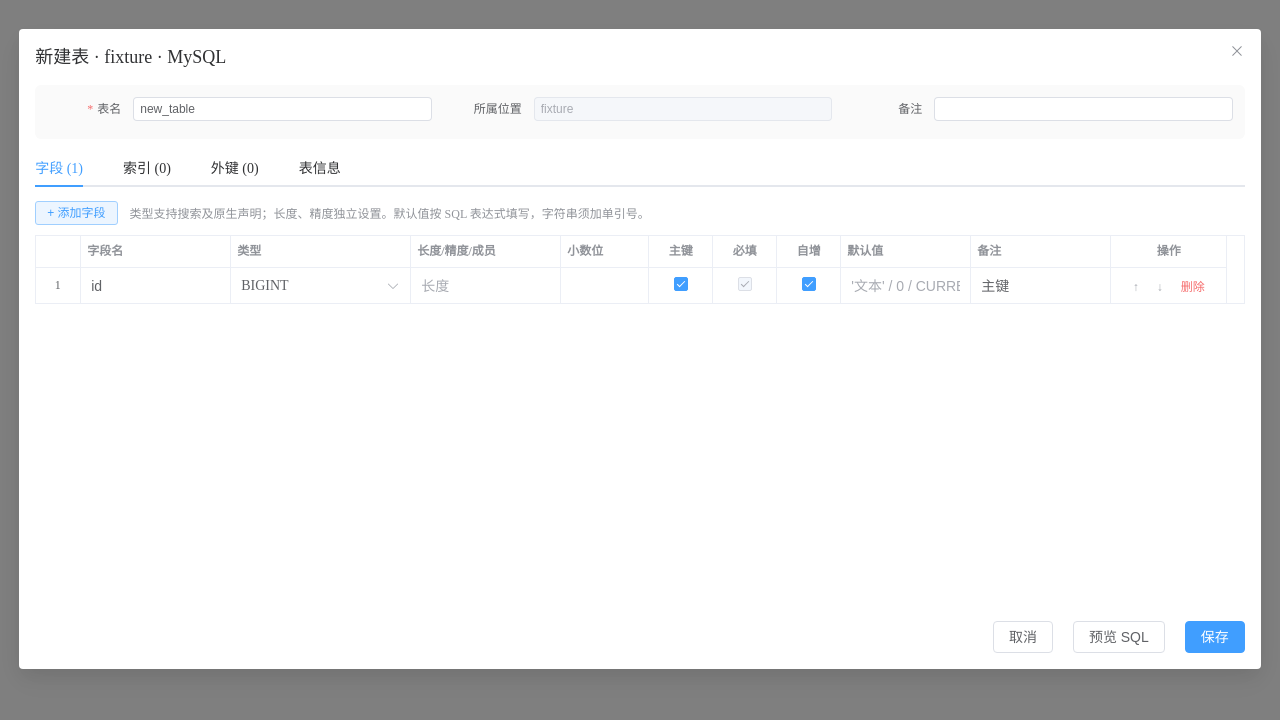
Test case: 建表弹窗交互 › 无效字段名显示持久错误，阻止保存，并将键盘焦点移到错误摘要
Clear the field named "字段名 id". click: (156, 286)
box: [91,271,220,301]
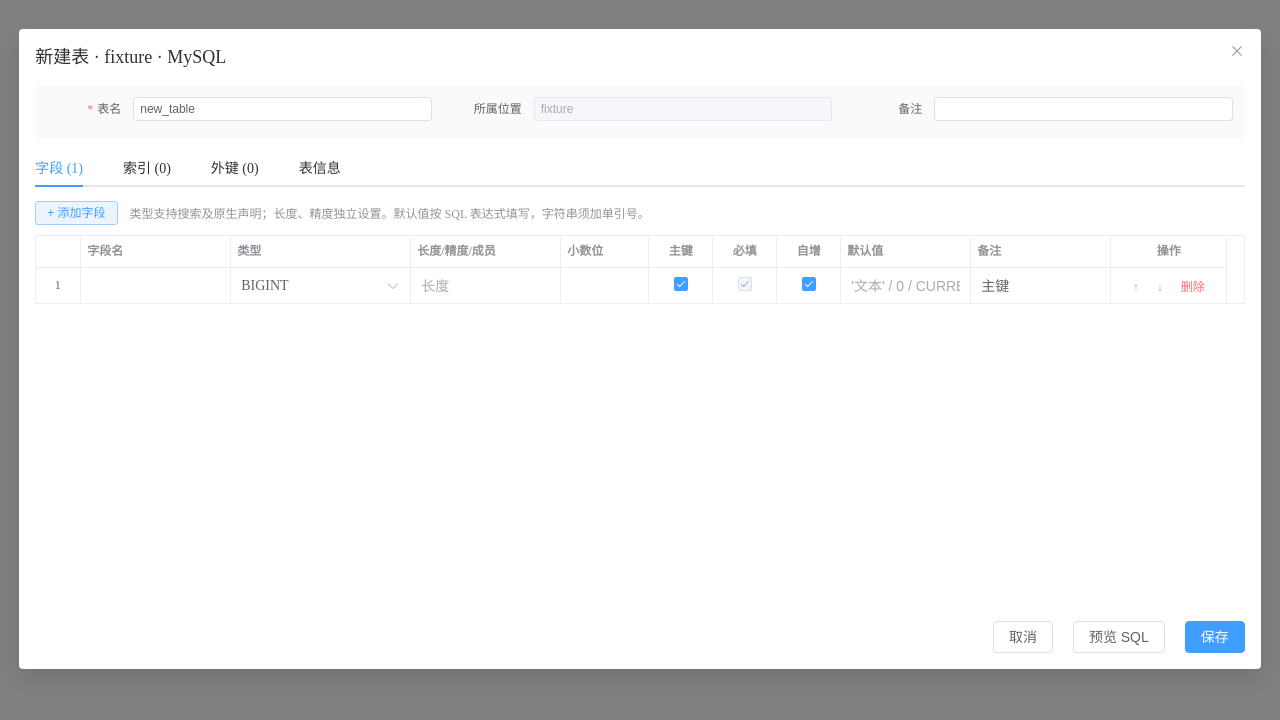
Click the button "保存". click: click(1215, 637)
box: [1185,621,1245,653]
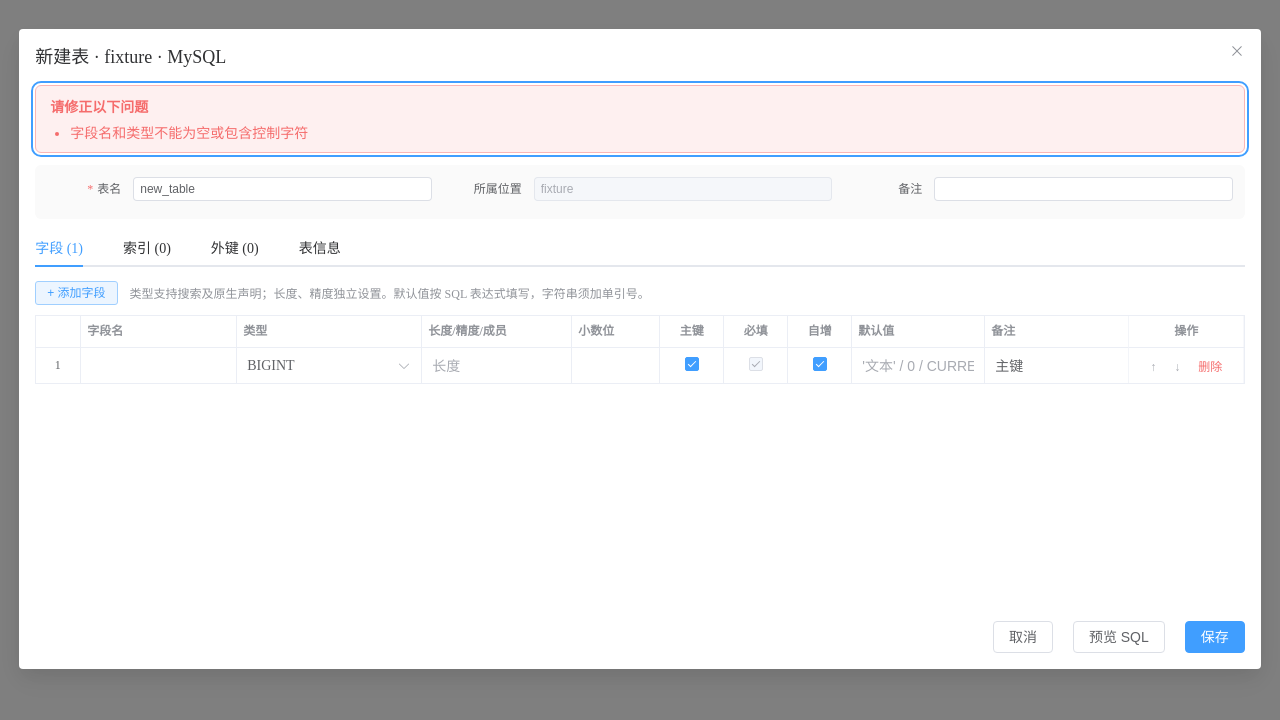
expect the message "请修正以下问题 字段名和类型不能为空或包含控制字符" is shown: met, box [35,85,1245,153]
